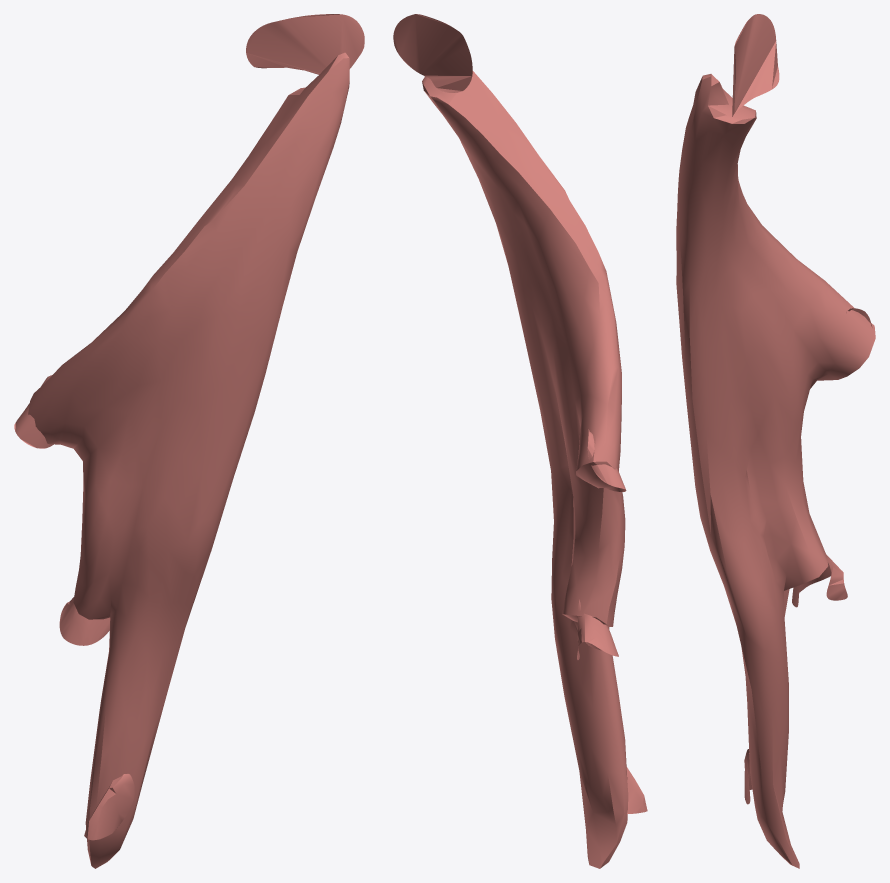
The model's file is fma46283_mm1293m.glb.
3 views of the same model, side by side, from view 1: azimuth 30°, elevation 25°; view 2: azimuth 150°, elevation 25°; view 3: azimuth 270°, elevation 25° (orthographic). The views are drawn at different scales.
Visible parts, largest first — view 1: FMA46283_MM1293M; view 2: FMA46283_MM1293M; view 3: FMA46283_MM1293M.
Part boxes in pixels (x1,y1,x2,y2): FMA46283_MM1293M: (14, 14, 364, 868); FMA46283_MM1293M: (393, 14, 647, 868); FMA46283_MM1293M: (676, 14, 875, 868).
Size of the model in its own units: 0.0265 by 0.0705 by 0.0135.
